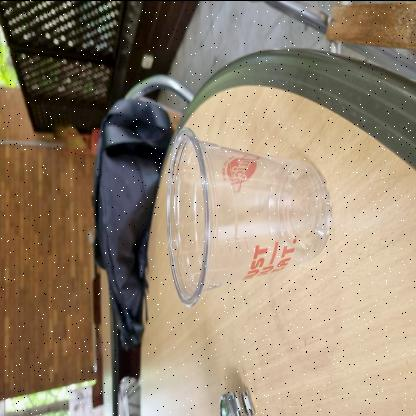Others: (162, 118, 334, 310)
